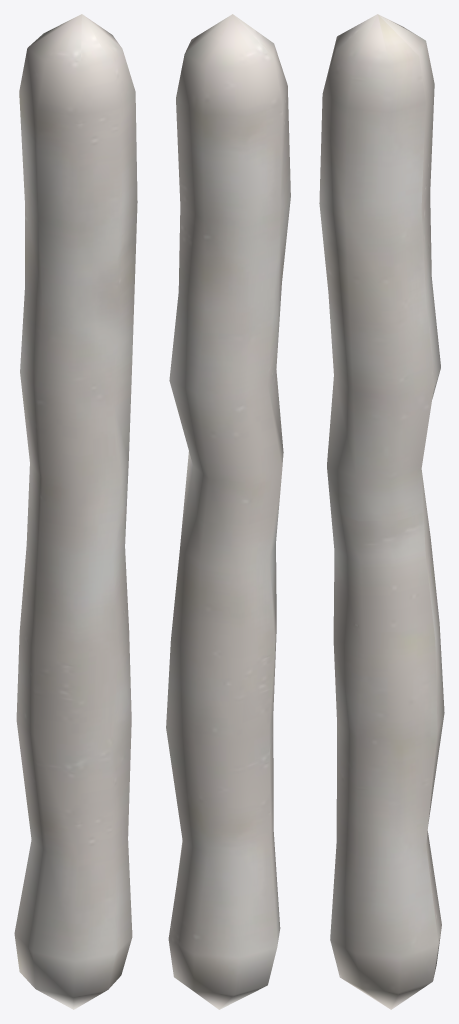
The model's file is wall.half.gingerbread.corner.l.glb.
3 renders of one model, left to right at view 1: azimuth 90°, elevation 25°; view 2: azimuth 150°, elevation 25°; view 3: azimuth 330°, elevation 25°, orthographic.
Visible parts, largest first — view 1: wall.half.corner.L_LOD0; view 2: wall.half.corner.L_LOD0; view 3: wall.half.corner.L_LOD0.
Part boxes in pixels (box(x1,y1,x2,y2)): wall.half.corner.L_LOD0: box(14, 14, 137, 1009); wall.half.corner.L_LOD0: box(166, 14, 290, 1009); wall.half.corner.L_LOD0: box(319, 14, 444, 1009).
Size of the model in its own units: 0.1842 by 1.61 by 0.1799.
1 material, 1 textured.
